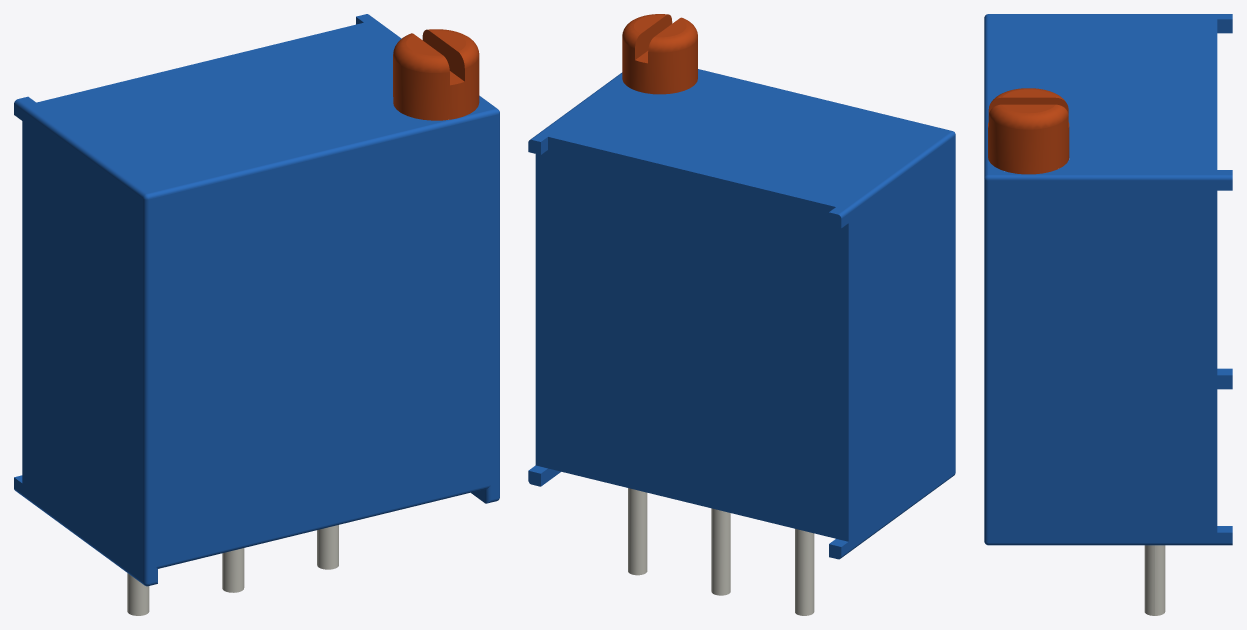
File: kc-potentiometer_bourns_3299w_vertical.glb
The picture shows the model from 3 angles, left to right: view 1: azimuth 30°, elevation 25°; view 2: azimuth 150°, elevation 25°; view 3: azimuth 270°, elevation 25°; orthographic projection. The views are drawn at different scales.
Parts seen in each view (by area): view 1: 0_0.16666666666666666_0.5_0, 0.4166666666666667_0.08333333333333333_0_0, 0.6666666666666666_0.6666666666666666_0.5833333333333334_0.8; view 2: 0_0.16666666666666666_0.5_0, 0.4166666666666667_0.08333333333333333_0_0, 0.6666666666666666_0.6666666666666666_0.5833333333333334_0.8; view 3: 0_0.16666666666666666_0.5_0, 0.4166666666666667_0.08333333333333333_0_0, 0.6666666666666666_0.6666666666666666_0.5833333333333334_0.8.
Boxes of the visible parts, x1=… form: 0_0.16666666666666666_0.5_0: x1=14, y1=14, x2=499, y2=586; 0.4166666666666667_0.08333333333333333_0_0: x1=393, y1=29, x2=479, y2=120; 0.6666666666666666_0.6666666666666666_0.5833333333333334_0.8: x1=127, y1=525, x2=338, y2=615; 0_0.16666666666666666_0.5_0: x1=528, y1=69, x2=955, y2=559; 0.4166666666666667_0.08333333333333333_0_0: x1=622, y1=14, x2=697, y2=94; 0.6666666666666666_0.6666666666666666_0.5833333333333334_0.8: x1=628, y1=488, x2=814, y2=615; 0_0.16666666666666666_0.5_0: x1=984, y1=14, x2=1232, y2=545; 0.4166666666666667_0.08333333333333333_0_0: x1=988, y1=88, x2=1069, y2=174; 0.6666666666666666_0.6666666666666666_0.5833333333333334_0.8: x1=1144, y1=545, x2=1165, y2=615.
Size of the model in its own units: 0.953 by 1.43 by 0.6101.
